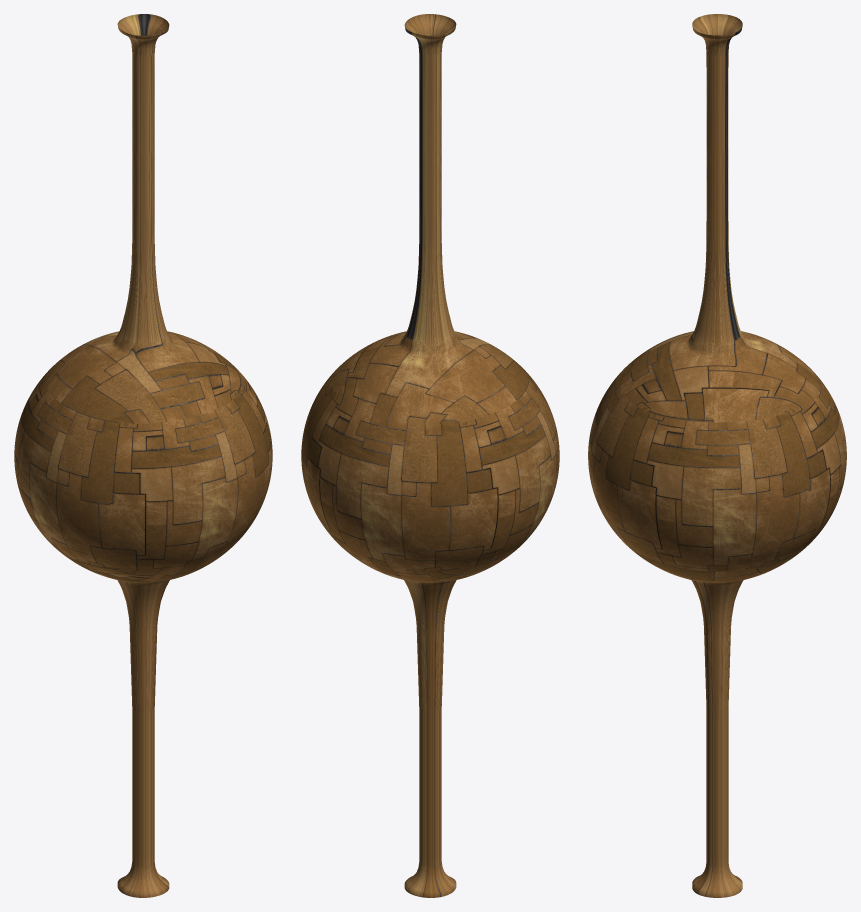
The model's file is tunnel.glb.
The picture shows the model from 3 angles, left to right: view 1: azimuth 30°, elevation 25°; view 2: azimuth 150°, elevation 25°; view 3: azimuth 270°, elevation 25°; orthographic projection.
Parts seen in each view (by area): view 1: CubeStyle; view 2: CubeStyle; view 3: CubeStyle.
Boxes of the visible parts, <box> form: CubeStyle: <box>14,14,272,897</box>; CubeStyle: <box>301,14,559,897</box>; CubeStyle: <box>588,14,846,897</box>.
Size of the model in its own units: 2.09 by 7.7 by 2.09.
1 material, 1 textured.
